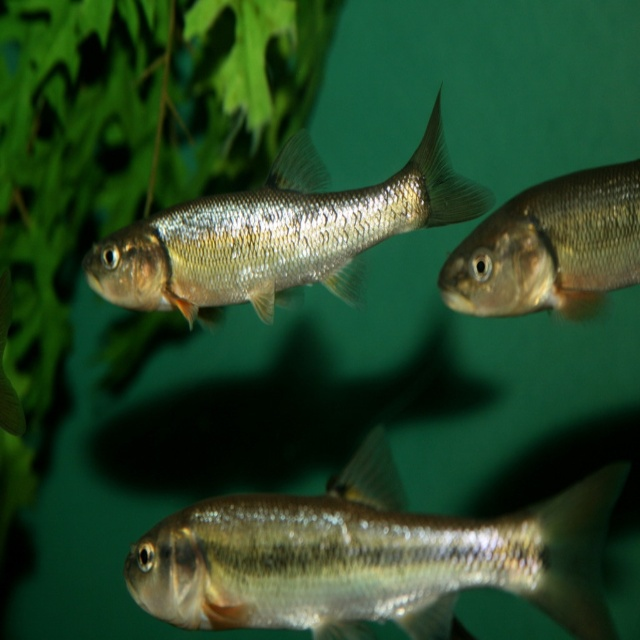Fish: (127, 423, 640, 639), (86, 106, 507, 352), (437, 151, 639, 323)
